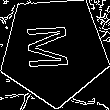M_E: (28, 26, 80, 75)
